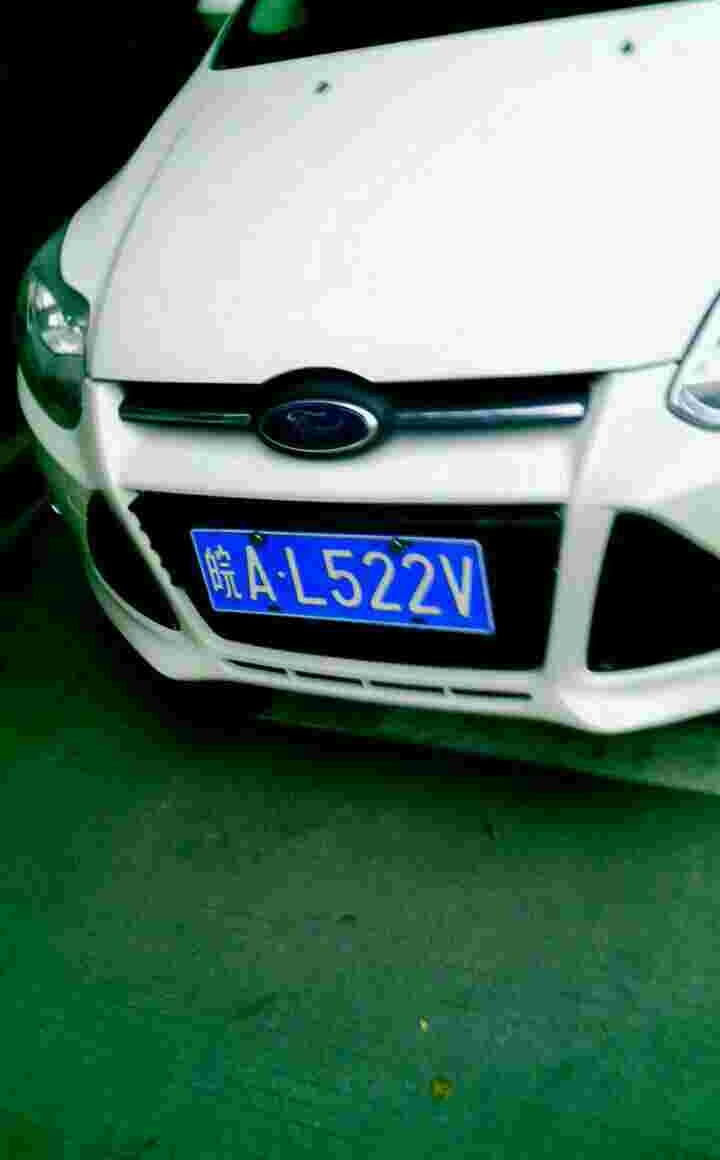license_plate: (198, 526, 508, 646)
